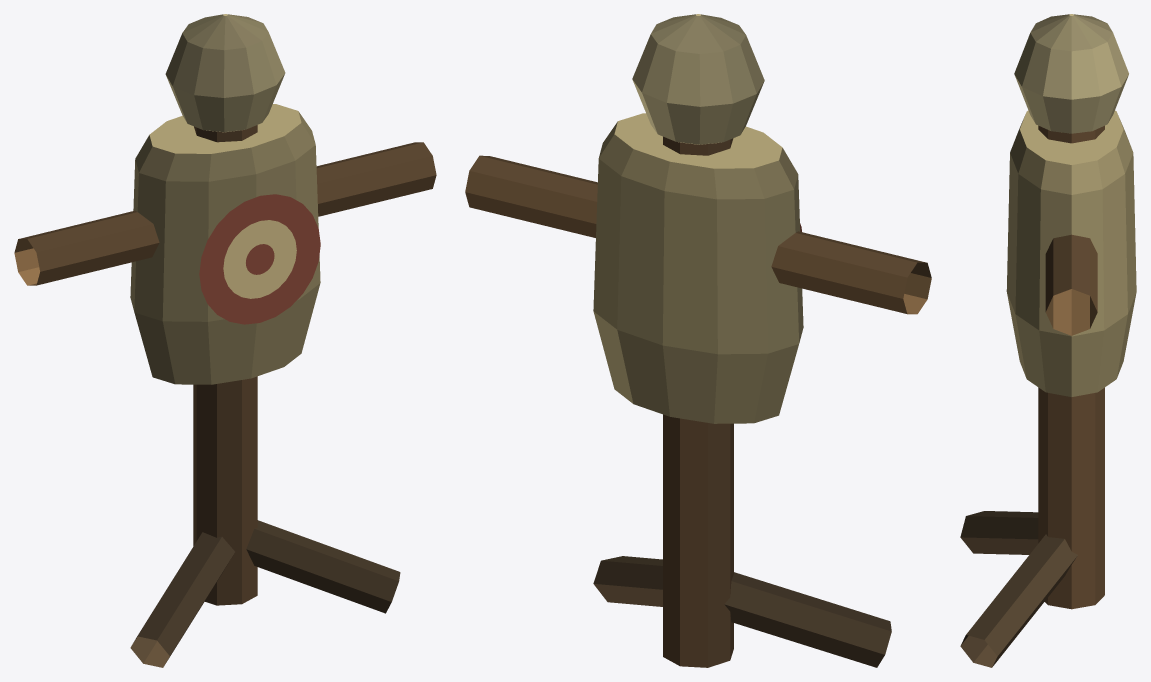
3 renders of one model, left to right at view 1: azimuth 30°, elevation 25°; view 2: azimuth 150°, elevation 25°; view 3: azimuth 270°, elevation 25°, orthographic. The views are drawn at different scales.
Visible parts, largest first — view 1: 29a6328a075cdf31f5976d11092b2af55d69a458ad12fbe02216fb98e470; view 2: 29a6328a075cdf31f5976d11092b2af55d69a458ad12fbe02216fb98e470; view 3: 29a6328a075cdf31f5976d11092b2af55d69a458ad12fbe02216fb98e470.
Part boxes in pixels (x1,y1,x2,y2): 29a6328a075cdf31f5976d11092b2af55d69a458ad12fbe02216fb98e470: (14, 14, 436, 667); 29a6328a075cdf31f5976d11092b2af55d69a458ad12fbe02216fb98e470: (465, 14, 931, 667); 29a6328a075cdf31f5976d11092b2af55d69a458ad12fbe02216fb98e470: (960, 14, 1136, 667).
Bounding box in the file's own units: 1.24 × 1.76 × 0.4751.
